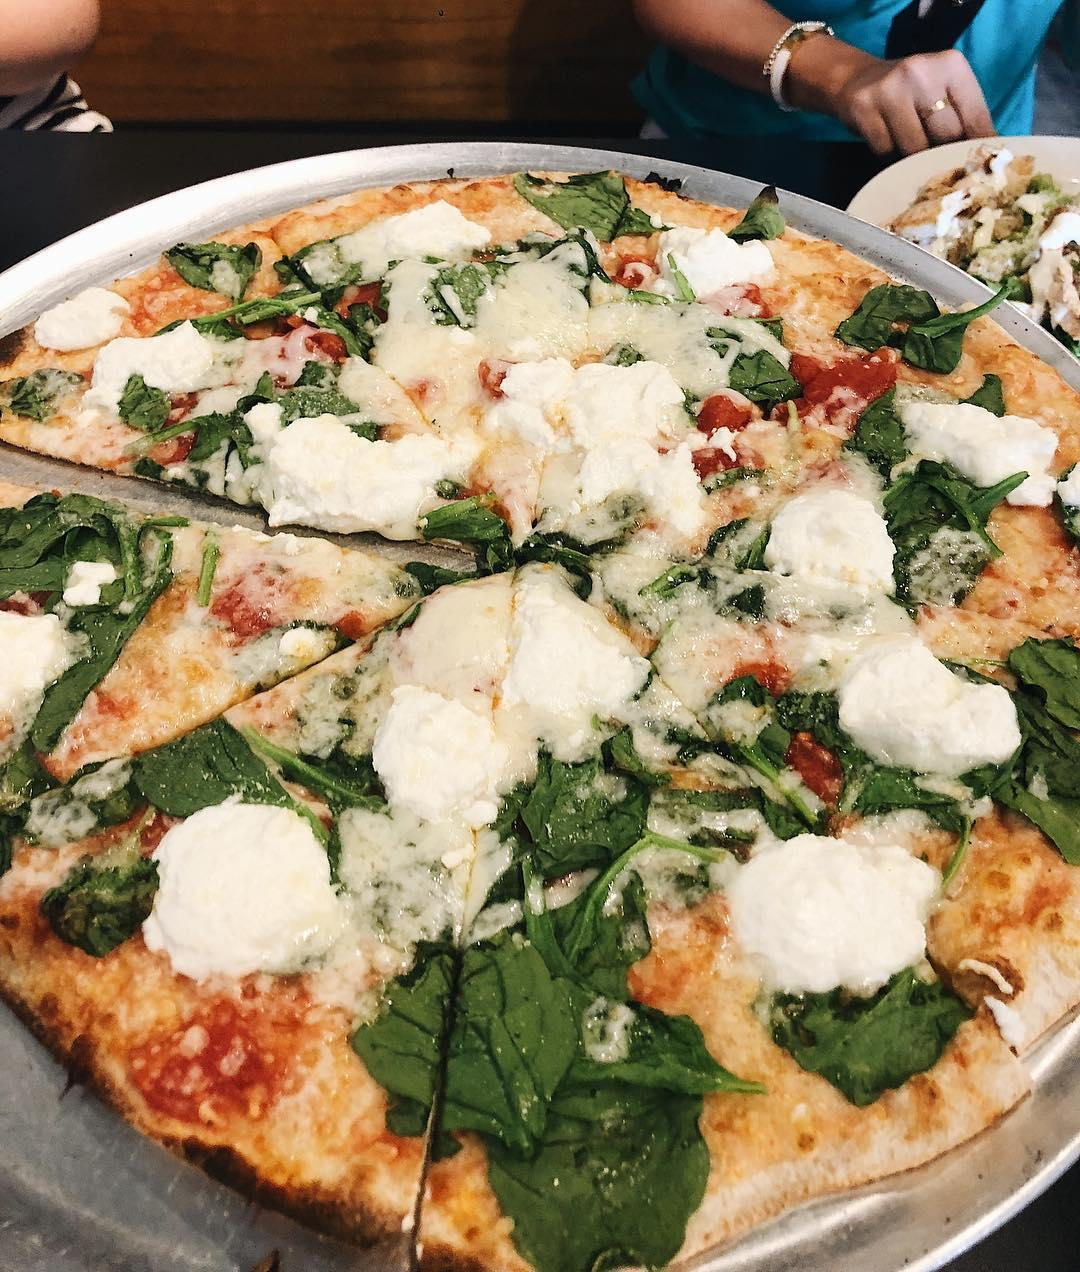Basil: (364, 939, 713, 1141), (0, 499, 137, 784), (482, 1141, 713, 1272), (769, 968, 976, 1105), (882, 459, 1005, 612), (509, 754, 649, 875), (1008, 636, 1080, 867), (137, 724, 277, 815), (837, 280, 964, 373), (510, 169, 665, 240), (280, 239, 343, 313), (166, 242, 255, 293)
Cheese: (163, 817, 325, 954), (743, 848, 925, 968), (850, 650, 1009, 771), (512, 566, 624, 701), (280, 426, 417, 526), (777, 498, 881, 595), (386, 700, 484, 797), (343, 205, 461, 275), (93, 332, 204, 384), (665, 234, 762, 288), (40, 290, 119, 342)
Pizza: (0, 170, 1080, 1272)
